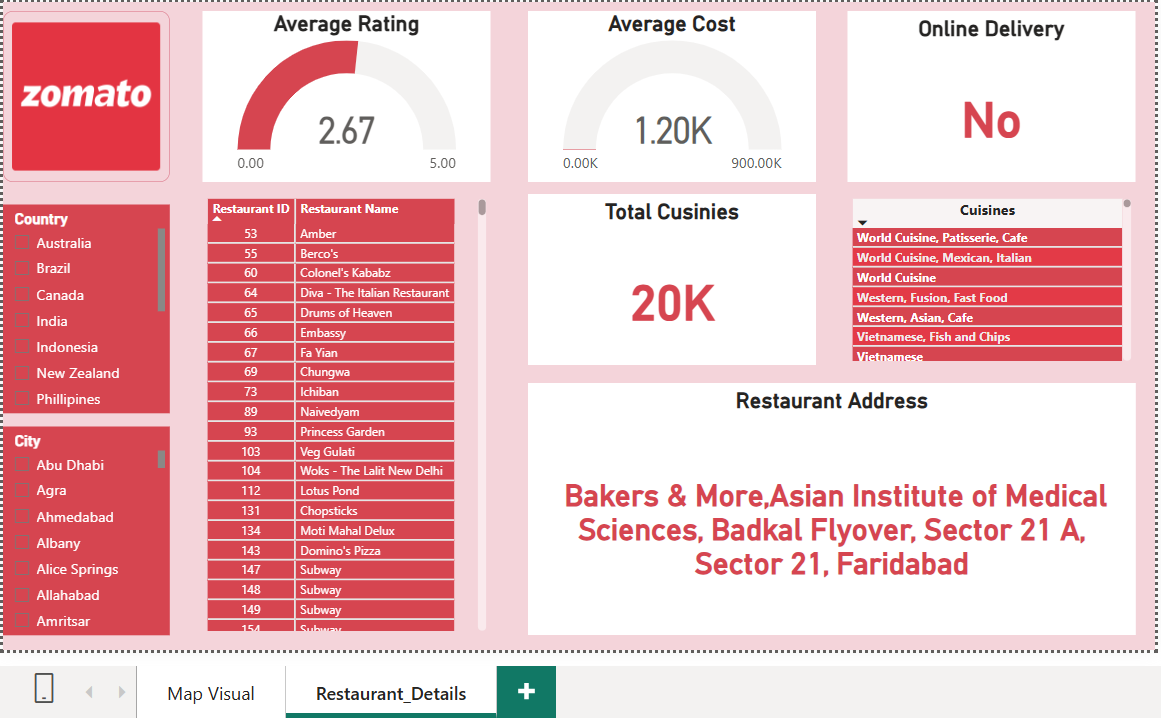

What the dashboard file says about the page in this screenshot:
{"tool":"powerbi","page":{"name":"Restaurant_Details","canvas":[1280,720],"ordinal":1},"visuals":[{"type":"tableEx","fields":{"Values":["Zomato Continents.Restaurant ID","Zomato Continents.Restaurant Name"]},"box":[221.7,213.3,320,490],"z":0},{"type":"slicer","fields":{"Values":["Zomato Continents.Country"]},"box":[0,225,185,231.7],"z":1000},{"type":"slicer","fields":{"Values":["Zomato Continents.City"]},"box":[0,471.7,185,231.7],"z":2000},{"type":"card","title":"Restaurant Address","fields":{"Values":["Min(Zomato Continents.Restaurant Address)"]},"box":[583.3,423.3,675,280],"z":3000},{"type":"gauge","fields":{"Y":["KPIs.Average Rating"]},"box":[221.7,10,320,190],"z":4000},{"type":"gauge","fields":{"Y":["KPIs.Average Cost"]},"box":[583.3,10,320,190],"z":5000},{"type":"tableEx","fields":{"Values":["Zomato Continents.Cuisines"]},"box":[938.3,213.3,320,190],"z":6000},{"type":"image","box":[0,10,185,190],"z":7000},{"type":"card","title":"Online Delivery","fields":{"Values":["Min(KPIs.Has Online delivery)"]},"box":[938.3,10,320,190],"z":8000},{"type":"card","title":"Total Cusinies","fields":{"Values":["Sum(Cuisines Menu.Total Cuisines Served)"]},"box":[583.3,213.3,320,190],"z":10000}]}

Visuals, with their boxes on the page's 1280x720 design canvas (x1, y1, x2, y2). These are canvas units, not pixel positions in the 1161x718 screenshot, which may show the page scaled, cropped or inside an application window:
tableEx - Zomato Continents.Restaurant ID x Zomato Continents.Restaurant Name: BBox(222, 213, 542, 703)
slicer - Zomato Continents.Country: BBox(0, 225, 185, 457)
slicer - Zomato Continents.City: BBox(0, 472, 185, 703)
"Restaurant Address" card: BBox(583, 423, 1258, 703)
gauge - KPIs.Average Rating: BBox(222, 10, 542, 200)
gauge - KPIs.Average Cost: BBox(583, 10, 903, 200)
tableEx - Zomato Continents.Cuisines: BBox(938, 213, 1258, 403)
image: BBox(0, 10, 185, 200)
"Online Delivery" card: BBox(938, 10, 1258, 200)
"Total Cusinies" card: BBox(583, 213, 903, 403)
